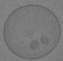small: (40, 37, 50, 46), (29, 40, 38, 49)
